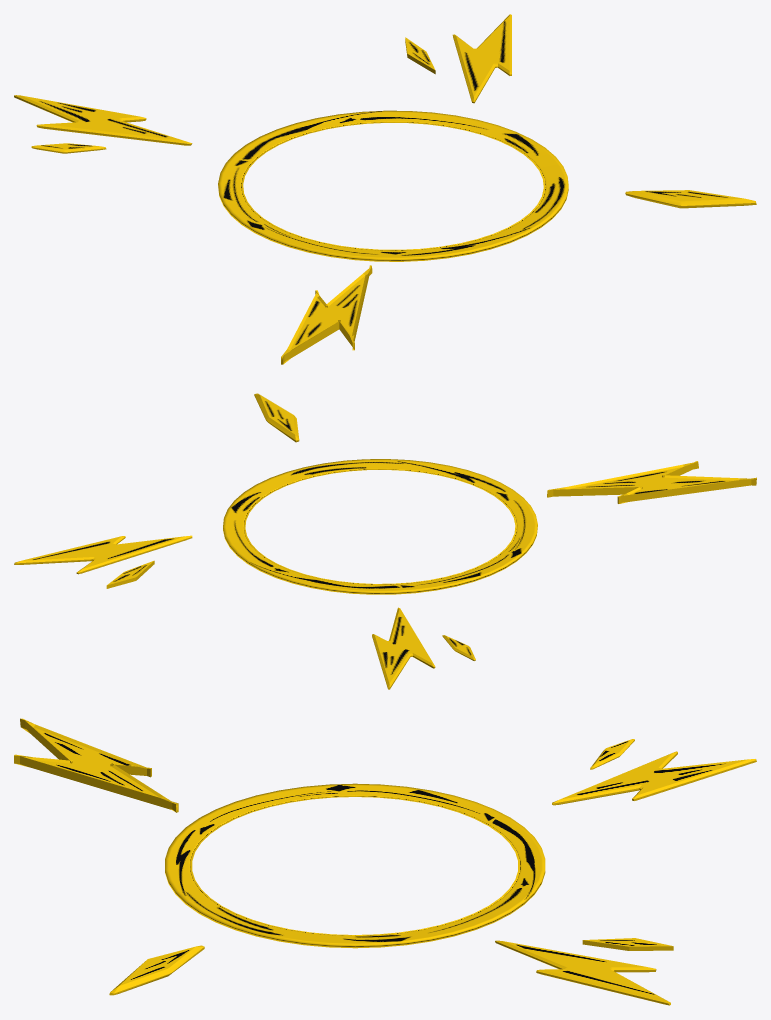
Rendered from SEffect.obj.
3 renders of one model, top to bottom at view 1: azimuth 30°, elevation 25°; view 2: azimuth 150°, elevation 25°; view 3: azimuth 270°, elevation 25°, orthographic. The views are drawn at different scales.
Visible parts, largest first — view 1: pCube7_initialShadingGroup; view 2: pCube7_initialShadingGroup; view 3: pCube7_initialShadingGroup.
Boxes of the visible parts, <box> form: pCube7_initialShadingGroup: <box>14,14,756,364</box>; pCube7_initialShadingGroup: <box>14,393,756,689</box>; pCube7_initialShadingGroup: <box>14,718,756,1005</box>.
Bounding box in the file's own units: 30.43 × 0.5308 × 34.07.
1 material, 1 textured.
